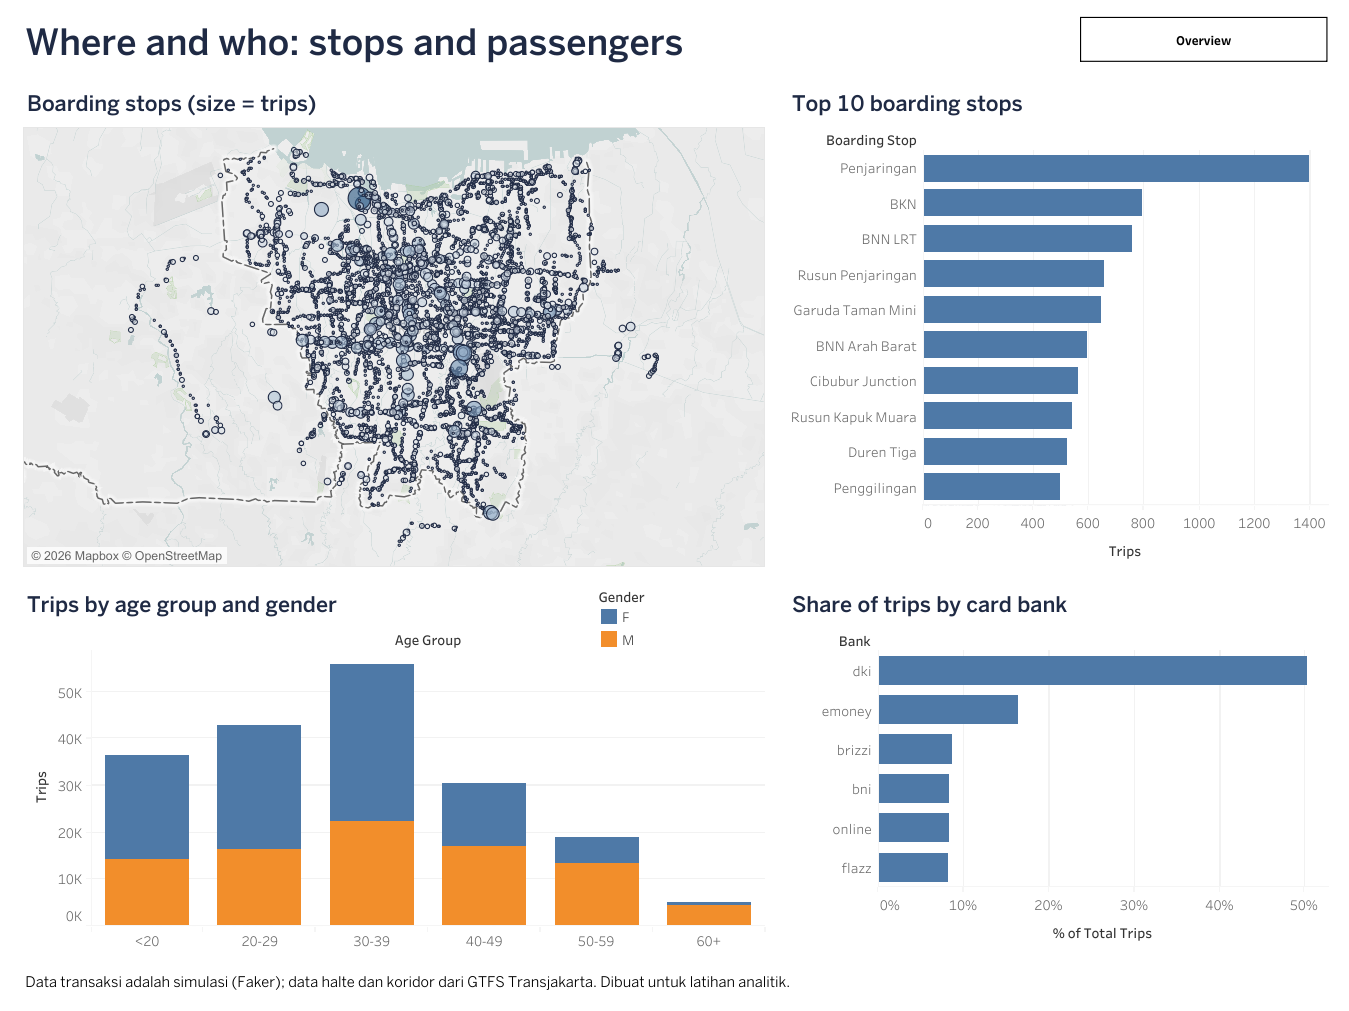

The dashboard page shown, as its layout file describes it:
{"tool":"tableau","page":{"name":"Stops & Passengers","canvas":[1200,900],"ordinal":1},"visuals":[{"type":"text","box":[20,10,1160,55]},{"type":"dashboard-object","box":[960,15,220,40]},{"type":"worksheet","title":"Stops Map","mark":"Circle","rows":["tapInStopsLat"],"cols":["tapInStopsLon"],"box":[20,75,660,430]},{"type":"worksheet","title":"Top Stops","mark":"Bar","rows":["tapInStopsName"],"cols":["Calculation_1612488624361477"],"box":[700,75,480,430]},{"type":"legend","title":"Age & Gender","param":"[federated.1hy0k1j19lo8rt14yu4uc0w10t7f].[none:payCardSex:nk]","box":[531,519,140,64]},{"type":"worksheet","title":"Age & Gender","mark":"Bar","rows":["Calculation_1612488624361477"],"cols":["Calculation_1612488624558086"],"box":[20,520,660,325]},{"type":"worksheet","title":"Bank Share","mark":"Bar","rows":["payCardBank"],"box":[700,520,480,325]},{"type":"text","box":[20,855,1160,35]}]}

Visuals, with their boxes in screenshot pixels (x1, y1, x2, y2), scaled from the page's 1200x900 canvas onto the 1349x1011 screenshot:
text: x1=22, y1=11, x2=1327, y2=73
dashboard-object: x1=1079, y1=17, x2=1327, y2=62
"Stops Map" worksheet (Circle marks): x1=22, y1=84, x2=764, y2=567
"Top Stops" worksheet (Bar marks): x1=787, y1=84, x2=1327, y2=567
"Age & Gender" legend: x1=597, y1=583, x2=754, y2=655
"Age & Gender" worksheet (Bar marks): x1=22, y1=584, x2=764, y2=949
"Bank Share" worksheet (Bar marks): x1=787, y1=584, x2=1327, y2=949
text: x1=22, y1=960, x2=1327, y2=1000
